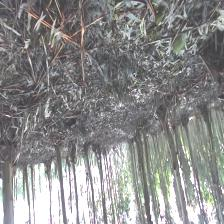trunk: (162, 122, 189, 219), (84, 146, 96, 221), (55, 146, 67, 220), (70, 157, 80, 221), (3, 160, 13, 221)
